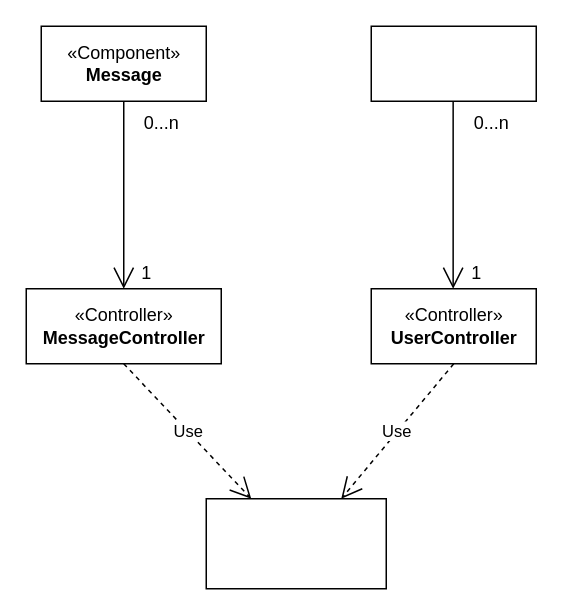
This 563x615 diagram has some shape labels left out. The centre of each missing label's shape, as x and y in pixels:
"Database" belongs at point (295, 543).
"«Component» User" belongs at point (453, 63).
